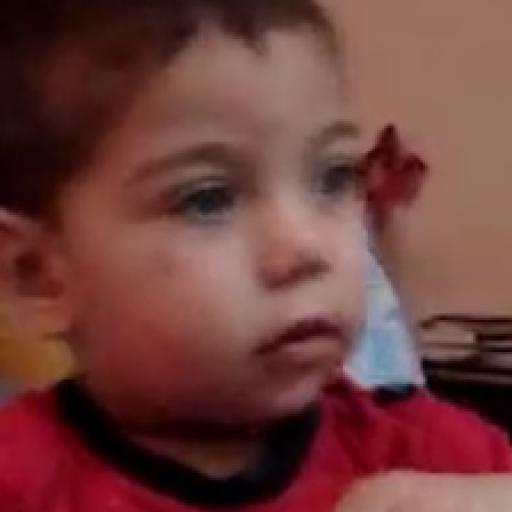Autism: (52, 23, 418, 434)
